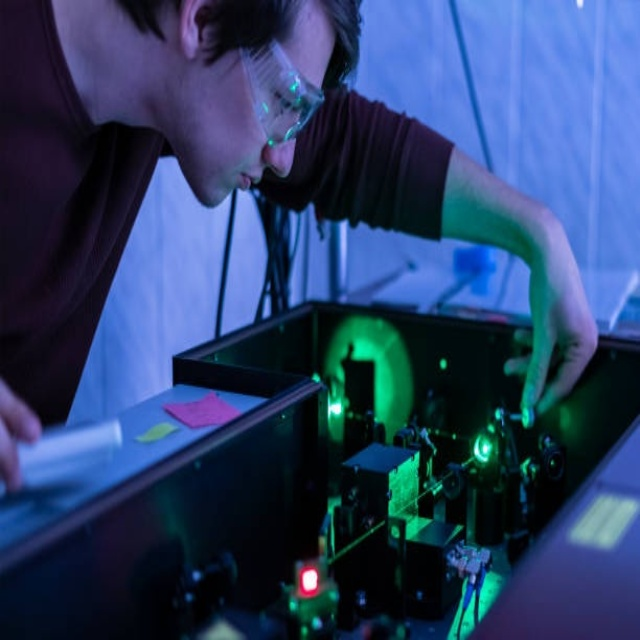Gafas: (238, 35, 325, 148)
Sin_guantes: (505, 228, 599, 424)
Sin_mascara: (202, 147, 265, 213)
